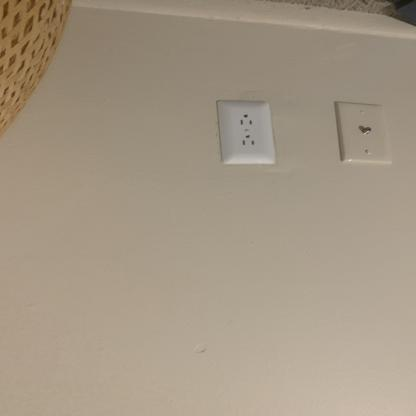OUTLET: (217, 101, 274, 165)
